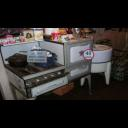speed_limit_40: (83, 49, 94, 61)
